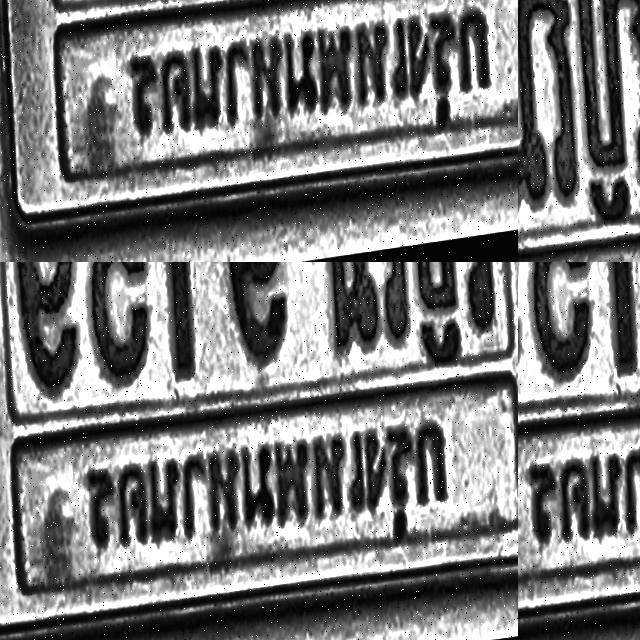license-plate: (0, 0, 518, 262), (518, 262, 640, 640)
